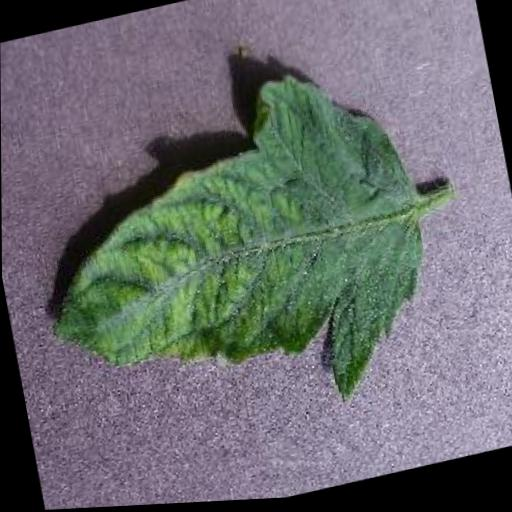Mosaic Virus: (12, 49, 448, 462)
